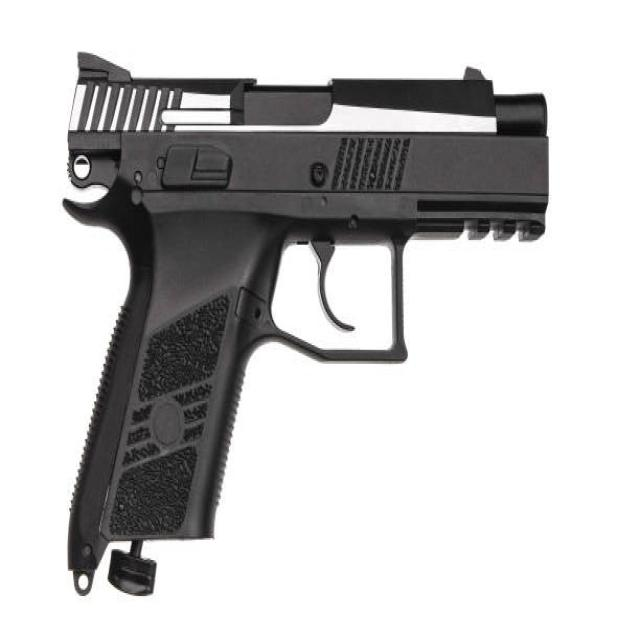pistol: (56, 46, 570, 602)
